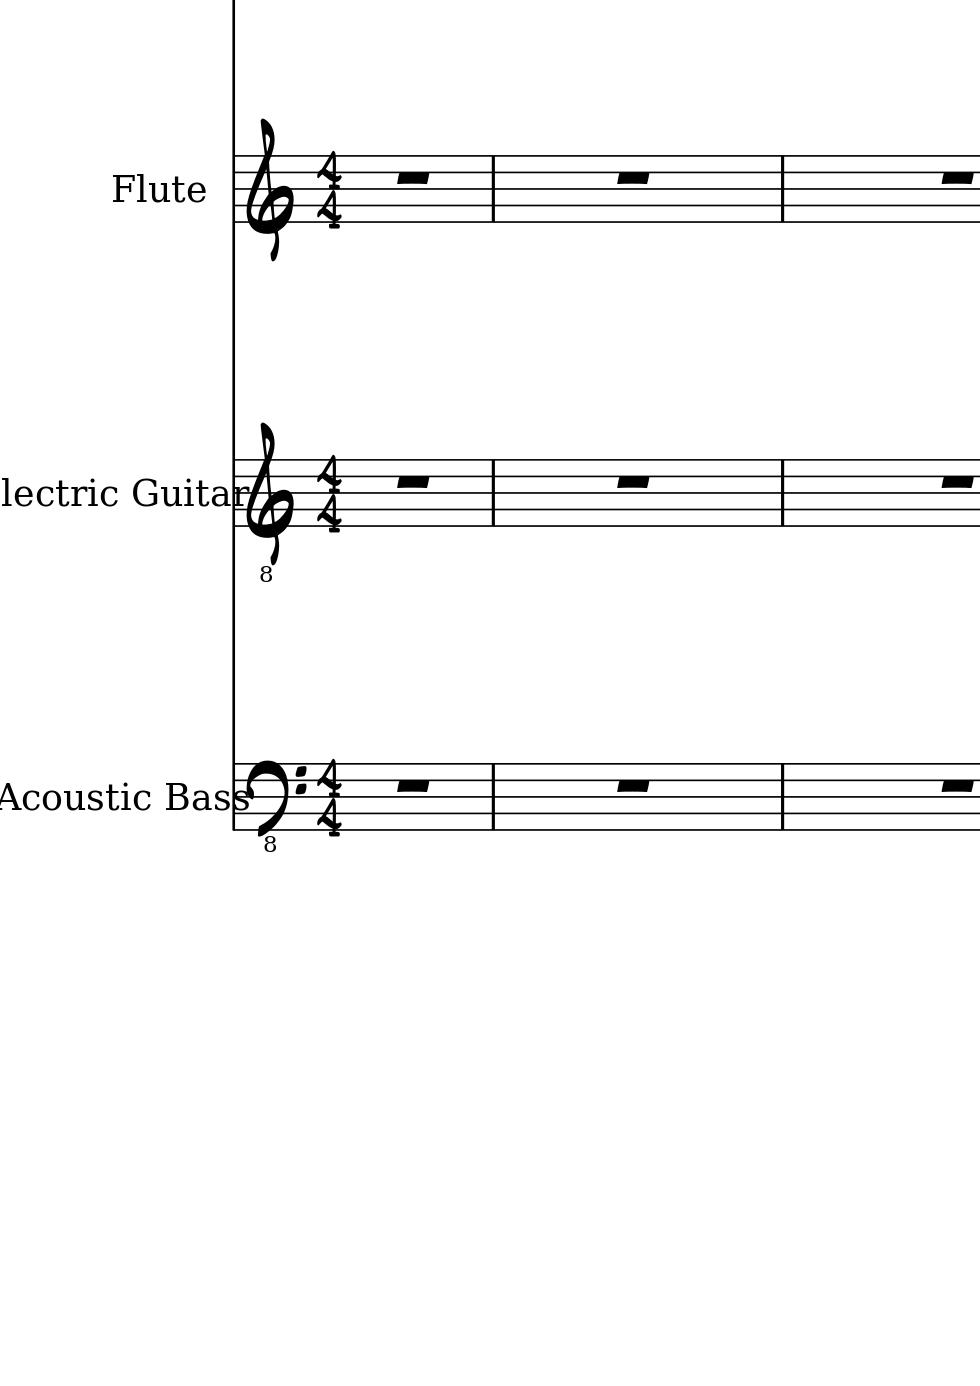4: (315, 188, 346, 230), (315, 492, 346, 533), (315, 796, 346, 838), (315, 453, 345, 494), (315, 150, 344, 189), (316, 758, 344, 799)
Bass: (161, 780, 243, 815)
Fl: (106, 166, 153, 207)
Gclef: (243, 117, 295, 263)
Guit: (132, 473, 209, 512)
Lower_Fclef: (248, 756, 305, 853)
Lower_Gclef: (244, 422, 295, 585)
Rests1: (937, 471, 978, 492), (937, 775, 978, 796), (390, 470, 433, 490), (612, 471, 654, 491), (612, 775, 654, 795), (937, 166, 978, 187), (391, 774, 433, 794), (390, 166, 434, 186), (612, 166, 653, 186)
Single_barline: (774, 764, 790, 830), (774, 156, 790, 222), (774, 460, 790, 526), (485, 155, 500, 222), (485, 764, 500, 830), (485, 460, 500, 526), (229, 459, 243, 529), (227, 156, 240, 224), (228, 764, 241, 831)
TimeSig: (314, 150, 344, 231), (314, 454, 343, 534), (314, 759, 343, 840)
